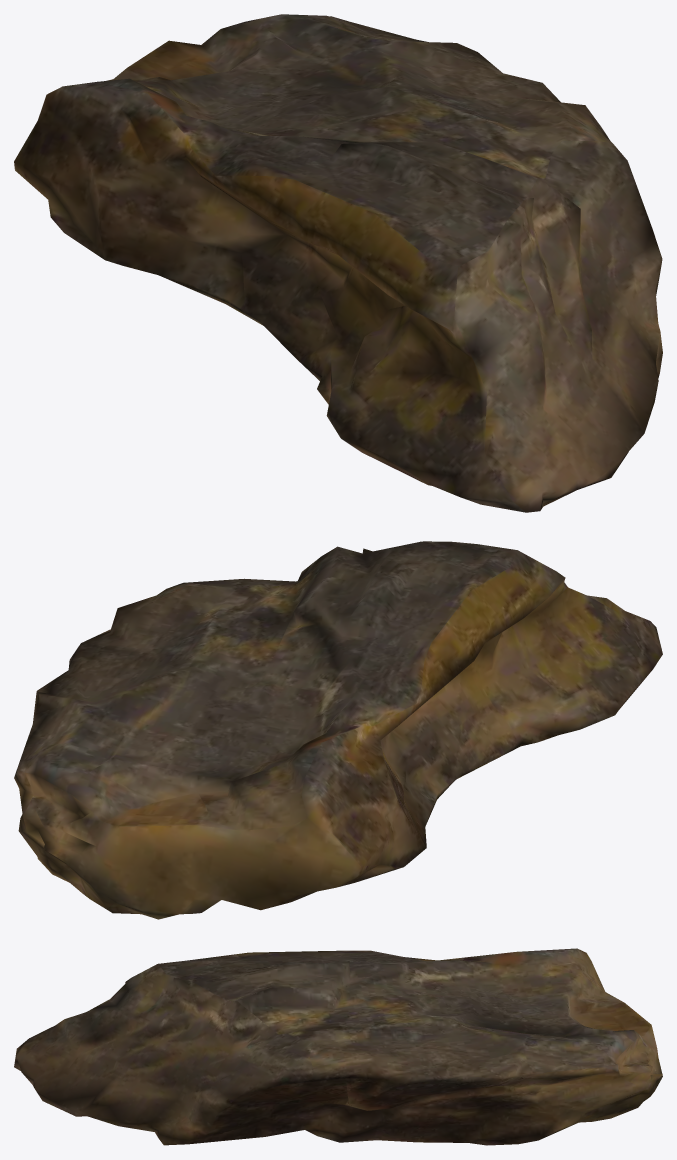
The model's file is rock_09.glb.
The picture shows the model from 3 angles, top to bottom: view 1: azimuth 30°, elevation 25°; view 2: azimuth 150°, elevation 25°; view 3: azimuth 270°, elevation 25°; orthographic projection. The views are drawn at different scales.
Parts seen in each view (by area): view 1: rock_09_LOD0; view 2: rock_09_LOD0; view 3: rock_09_LOD0.
Boxes of the visible parts, box(x1,y1,x2,y2) form: rock_09_LOD0: box(14, 14, 662, 512); rock_09_LOD0: box(14, 541, 662, 919); rock_09_LOD0: box(14, 948, 662, 1145).
Size of the model in its own units: 0.0738 by 0.0326 by 0.1446.
Materials: 1 (1 with a texture image).
